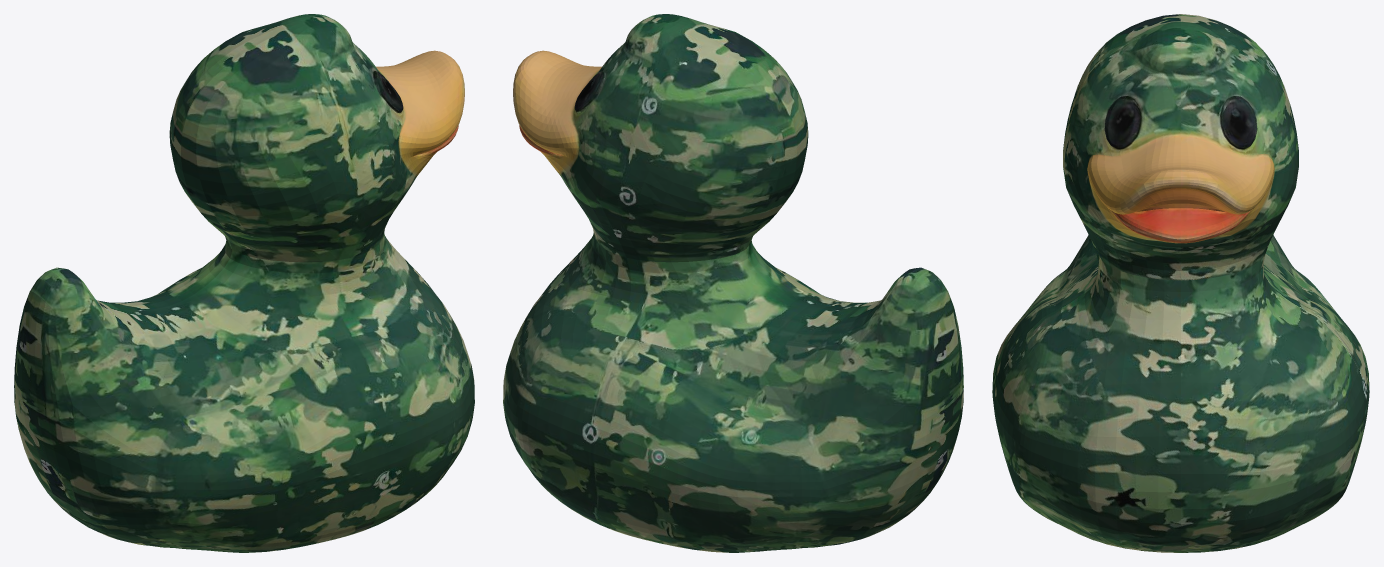
Rendered from military.glb.
3 views of the same model, side by side, from view 1: azimuth 30°, elevation 25°; view 2: azimuth 150°, elevation 25°; view 3: azimuth 270°, elevation 25° (orthographic). The views are drawn at different scales.
Parts seen in each view (by area): view 1: mvadapter_node_textured_official_model_1; view 2: mvadapter_node_textured_official_model_1; view 3: mvadapter_node_textured_official_model_1.
Boxes of the visible parts, left/top/right/bottom form: mvadapter_node_textured_official_model_1: left=14, top=14, right=474, bottom=552; mvadapter_node_textured_official_model_1: left=503, top=14, right=963, bottom=552; mvadapter_node_textured_official_model_1: left=992, top=14, right=1369, bottom=552.
Size of the model in its own units: 101 by 104 by 74.23.
1 material, 1 textured.
